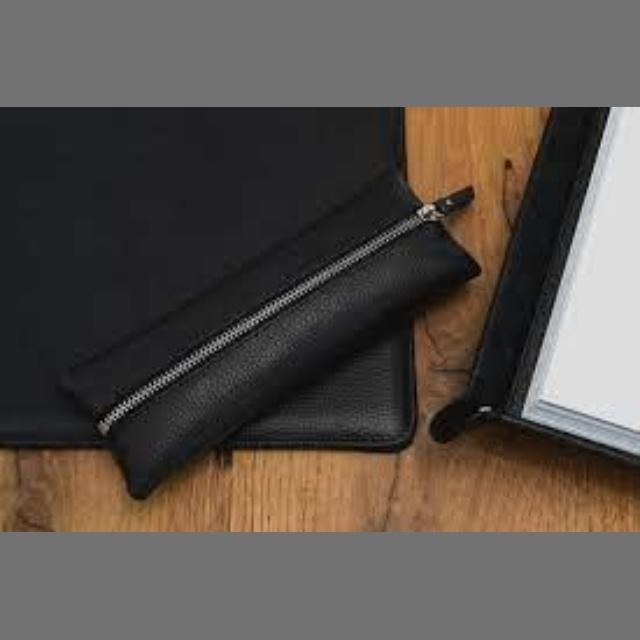Wallet: (42, 168, 514, 508)
